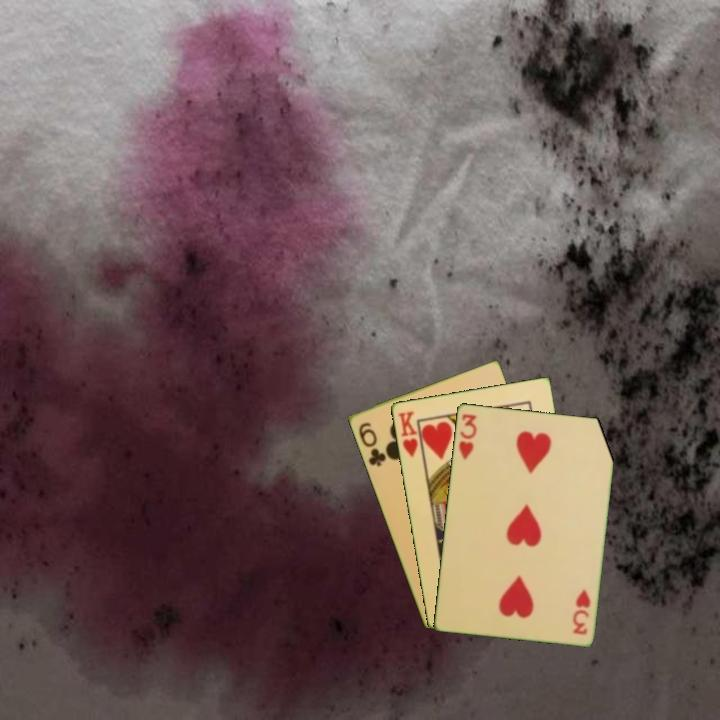3h: (455, 410, 479, 463), (569, 585, 593, 637)
6c: (355, 418, 389, 469)
Kh: (394, 407, 425, 461)
